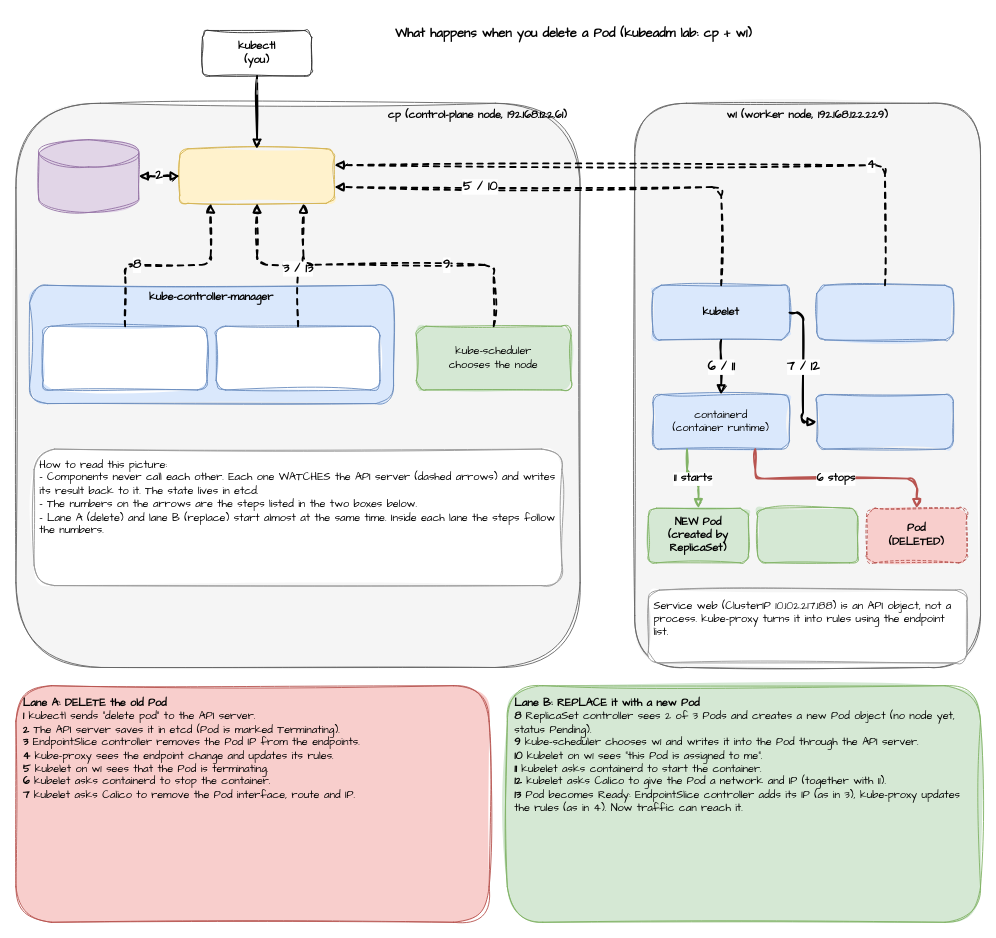
Image size: 996x938. Some labels were removed from this diagram. The shapes that lost their labels are listed below. From the top down, each one's centre as x and y in pixels, then its label:
(88,175): etcd (stored state)
(256,175): API server (the only gateway)
(884,312): kube-proxy (Service traffic rules)
(124,357): ReplicaSet controller keeps replicas = 3
(297,357): EndpointSlice controller keeps the endpoint list
(884,421): Calico CNI (Pod interface, route, IP)
(807,535): Pod (still running)
